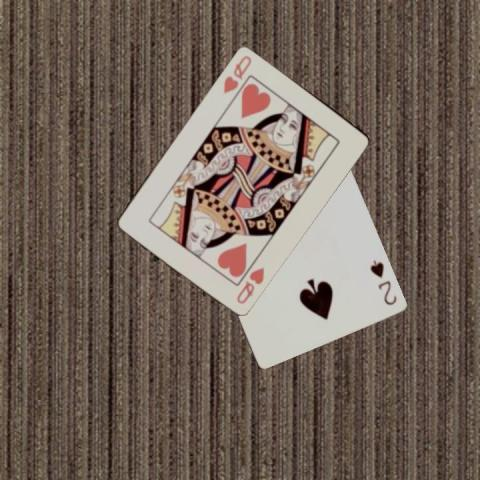2s: (367, 258, 398, 307)
Qh: (220, 52, 253, 94), (233, 264, 266, 305)
